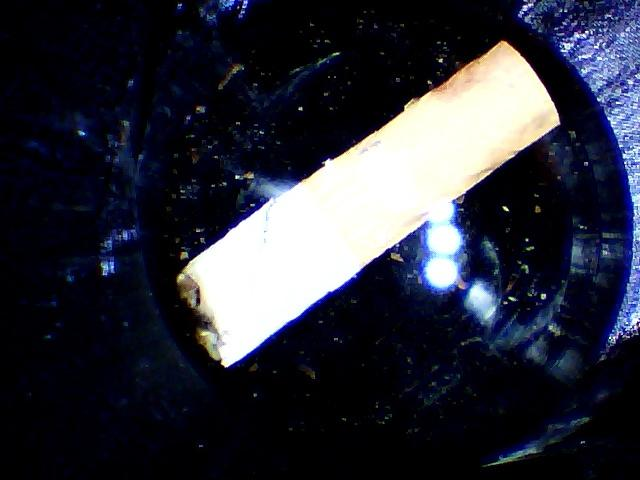megot: (170, 31, 567, 380)
